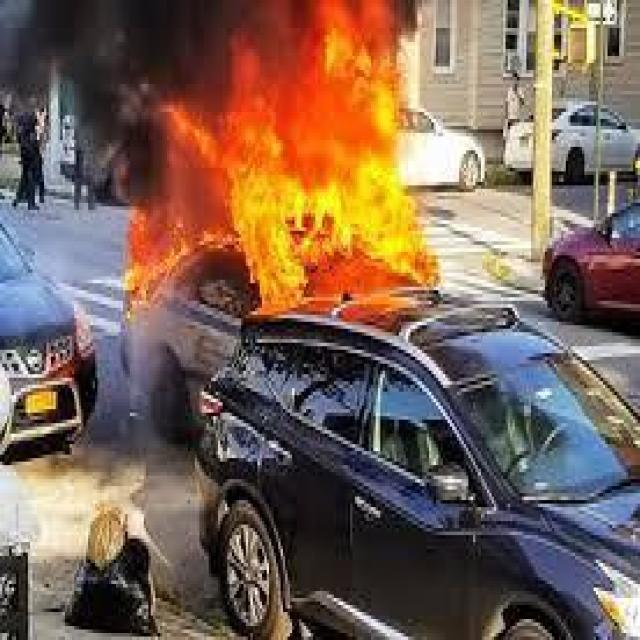fire: (113, 2, 444, 312)
smoke: (12, 4, 157, 121)
